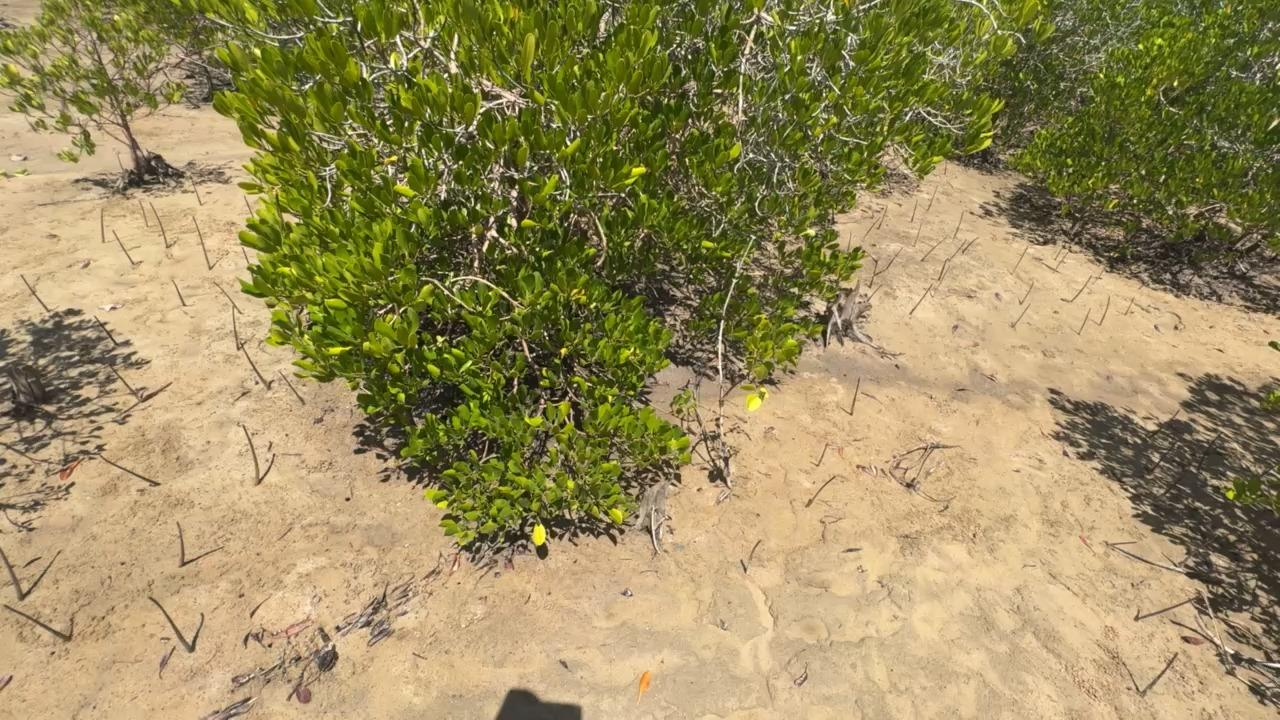Tree: (3, 602, 74, 640), (146, 596, 192, 653), (1138, 651, 1178, 699), (1133, 596, 1202, 623), (239, 342, 271, 389), (868, 247, 904, 287), (0, 545, 24, 600), (20, 273, 51, 312), (1197, 430, 1225, 473), (242, 423, 260, 485), (1149, 439, 1180, 472), (213, 282, 244, 314), (805, 476, 836, 508), (1149, 408, 1181, 439), (193, 216, 211, 269), (278, 370, 305, 405), (149, 201, 168, 248), (908, 281, 934, 315), (920, 233, 950, 262), (1157, 471, 1188, 499), (108, 363, 135, 394), (93, 315, 120, 345), (112, 229, 134, 265), (1069, 273, 1092, 302), (1011, 244, 1029, 275), (1010, 303, 1031, 328), (947, 238, 968, 262), (861, 216, 881, 241), (1049, 251, 1069, 273), (1076, 307, 1091, 335), (176, 521, 185, 567), (1018, 280, 1034, 305), (190, 175, 203, 205), (850, 377, 860, 416), (172, 280, 186, 306), (231, 306, 239, 351), (747, 538, 762, 562), (936, 265, 951, 289), (926, 184, 939, 211), (138, 198, 150, 227), (1099, 296, 1110, 326), (962, 236, 980, 254), (953, 209, 964, 238), (817, 443, 830, 467), (937, 257, 950, 281), (877, 205, 888, 230), (243, 194, 254, 217), (912, 222, 922, 247), (868, 284, 883, 300), (1093, 267, 1107, 284), (1124, 296, 1135, 316), (910, 199, 918, 223), (100, 208, 105, 243), (1104, 540, 1138, 545), (242, 247, 251, 263), (846, 230, 852, 252), (740, 559, 747, 574), (944, 158, 947, 175), (831, 207, 834, 224)
